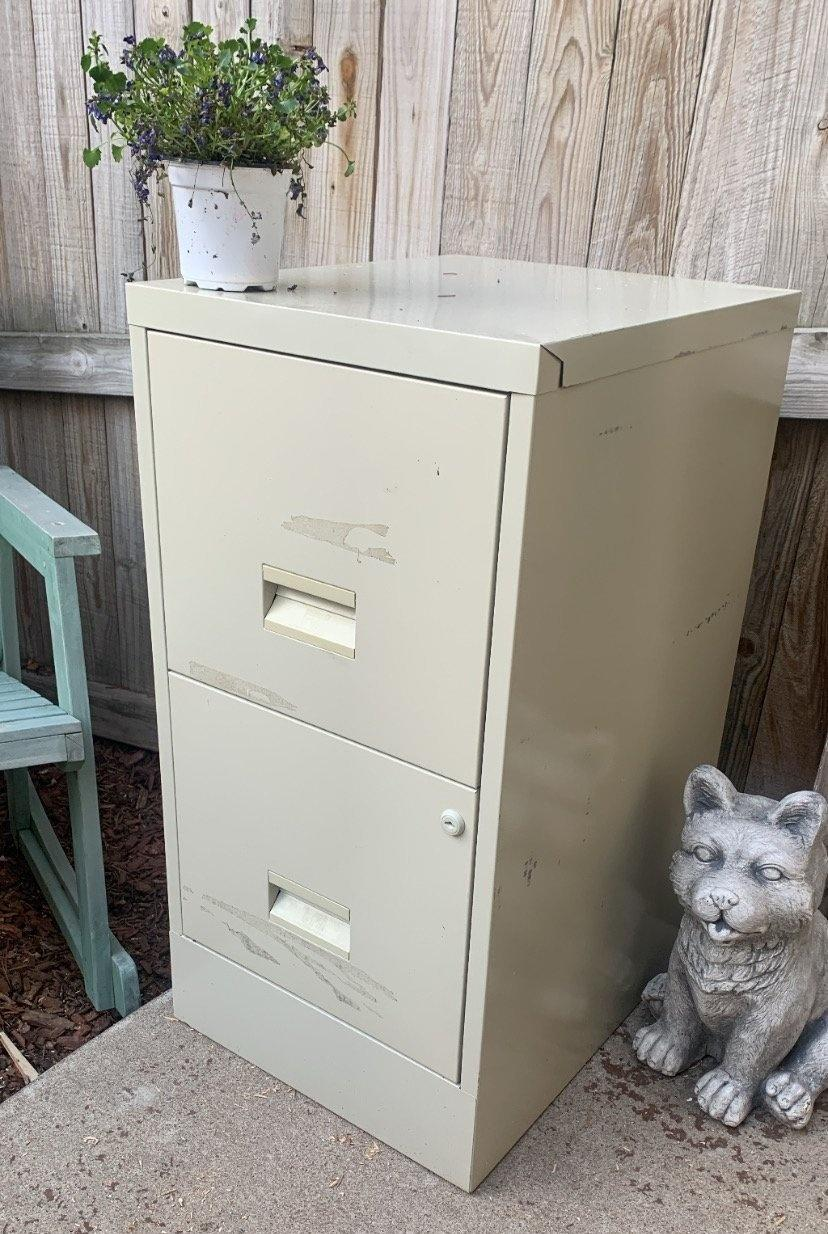Filing Cabinet: (118, 279, 539, 1193)
